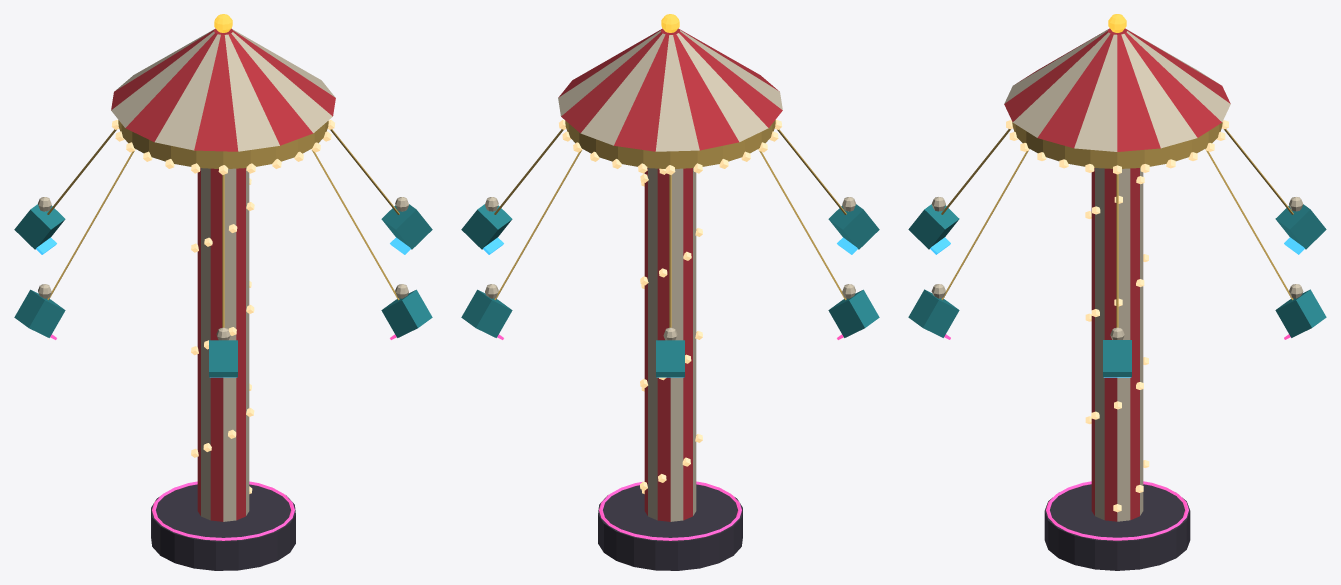
File: 05_swing_ride.glb
3 views of the same model, side by side, from view 1: azimuth 30°, elevation 25°; view 2: azimuth 150°, elevation 25°; view 3: azimuth 270°, elevation 25° (orthographic).
Parts seen in each view (by area): view 1: swing_crown_detail_noshadow_nocol, swing_ride_static_detail_noshadow_nocol, swing_crown_body, swing_ride_static_body; view 2: swing_crown_detail_noshadow_nocol, swing_ride_static_detail_noshadow_nocol, swing_crown_body, swing_ride_static_body; view 3: swing_crown_detail_noshadow_nocol, swing_ride_static_detail_noshadow_nocol, swing_crown_body, swing_ride_static_body.
Boxes of the visible parts, x1=… form: swing_crown_detail_noshadow_nocol: x1=36, y1=14, x2=410, y2=377; swing_ride_static_detail_noshadow_nocol: x1=152, y1=168, x2=294, y2=540; swing_crown_body: x1=14, y1=120, x2=432, y2=377; swing_ride_static_body: x1=151, y1=484, x2=295, y2=570; swing_crown_detail_noshadow_nocol: x1=483, y1=14, x2=857, y2=377; swing_ride_static_detail_noshadow_nocol: x1=599, y1=168, x2=741, y2=540; swing_crown_body: x1=461, y1=120, x2=879, y2=377; swing_ride_static_body: x1=598, y1=484, x2=742, y2=570; swing_crown_detail_noshadow_nocol: x1=930, y1=14, x2=1304, y2=377; swing_ride_static_detail_noshadow_nocol: x1=1046, y1=168, x2=1188, y2=540; swing_crown_body: x1=908, y1=122, x2=1326, y2=376; swing_ride_static_body: x1=1044, y1=484, x2=1190, y2=570.
Size of what is drawn, in the model's own units: 28.79 by 35.8 by 25.83.
